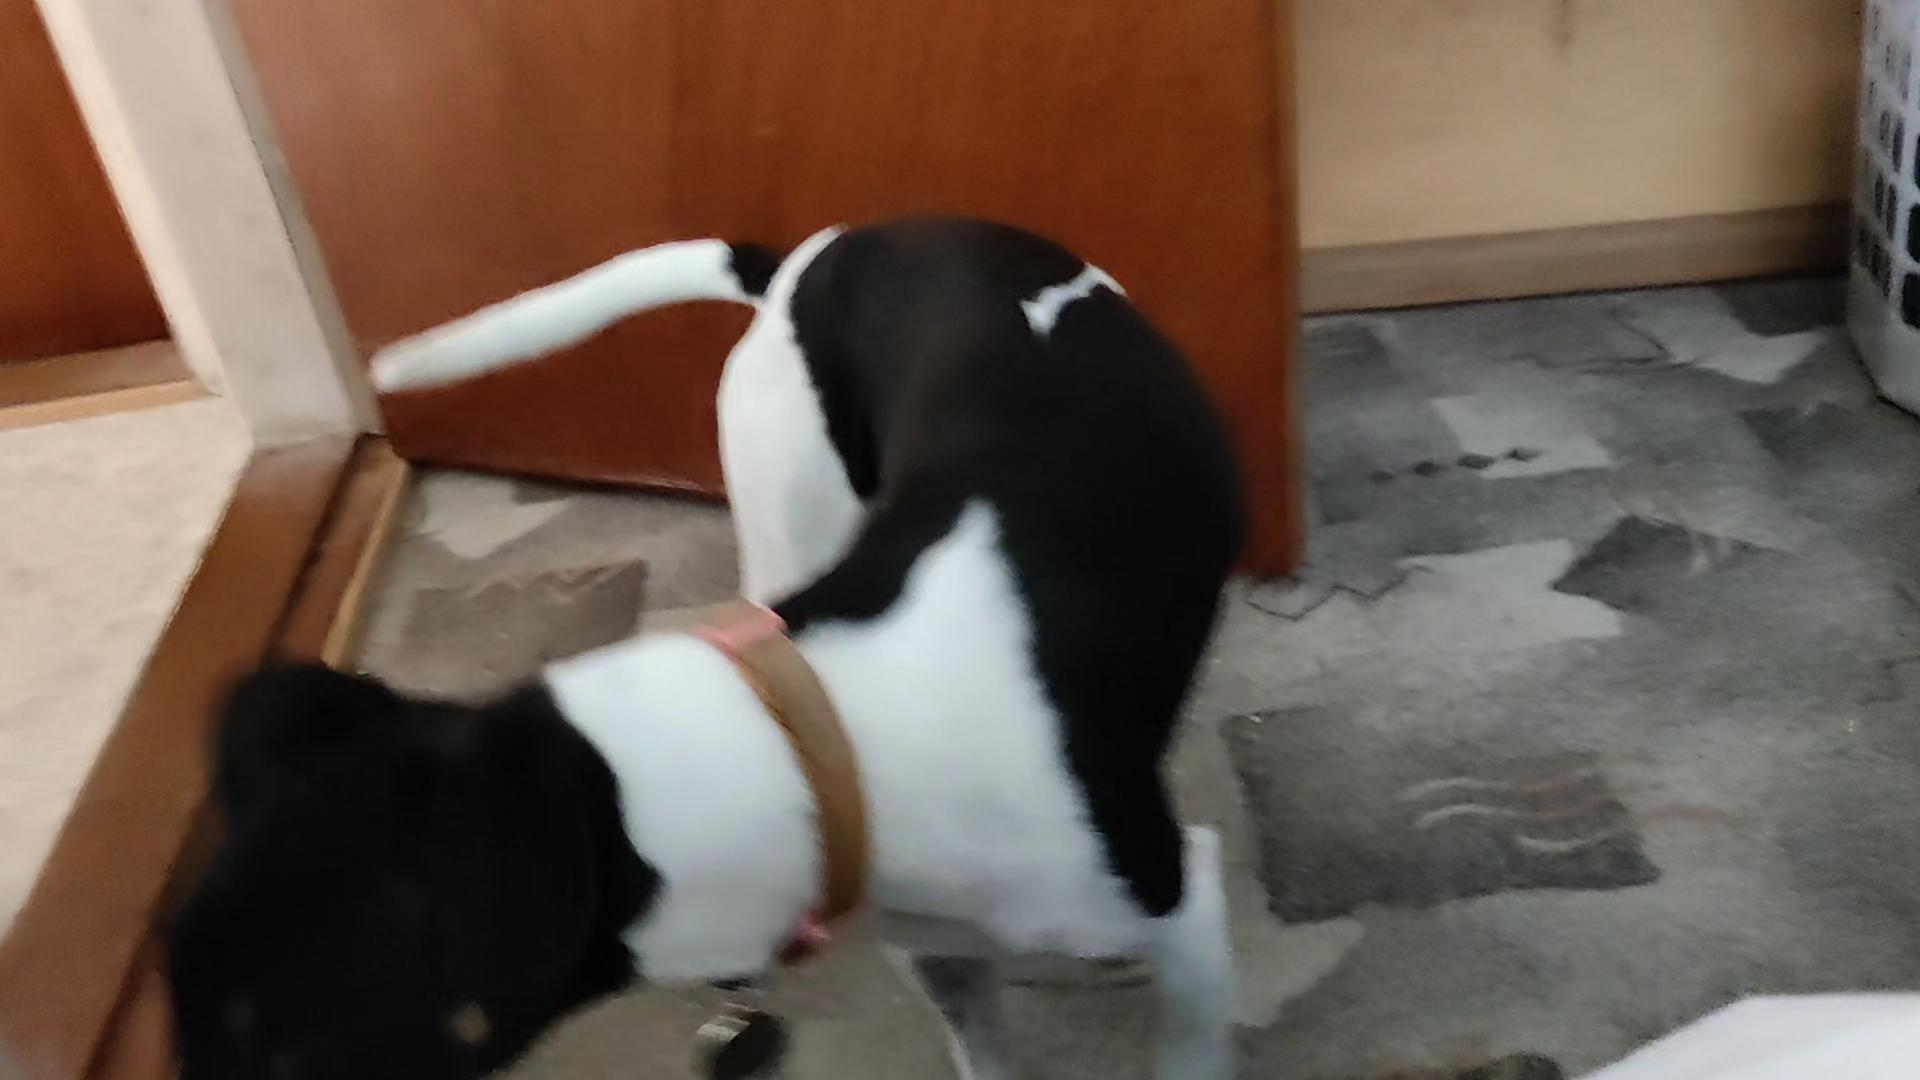Dog: (131, 199, 1263, 1079)
